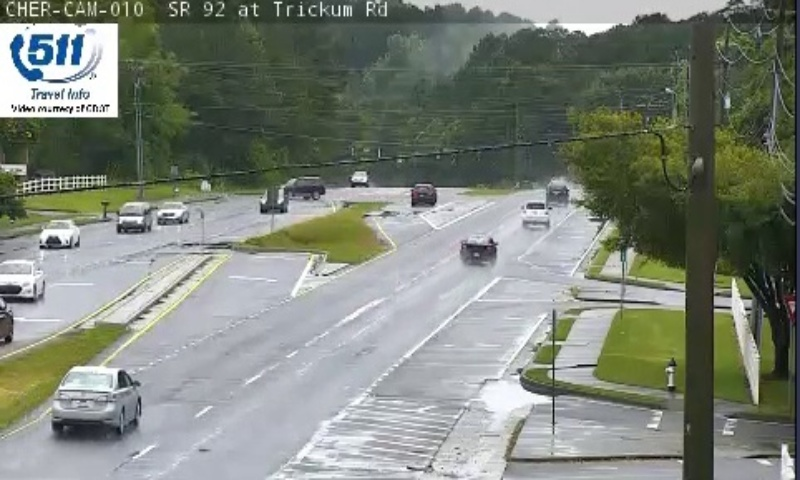car: (53, 366, 141, 422), (459, 234, 498, 265), (521, 200, 547, 225)
